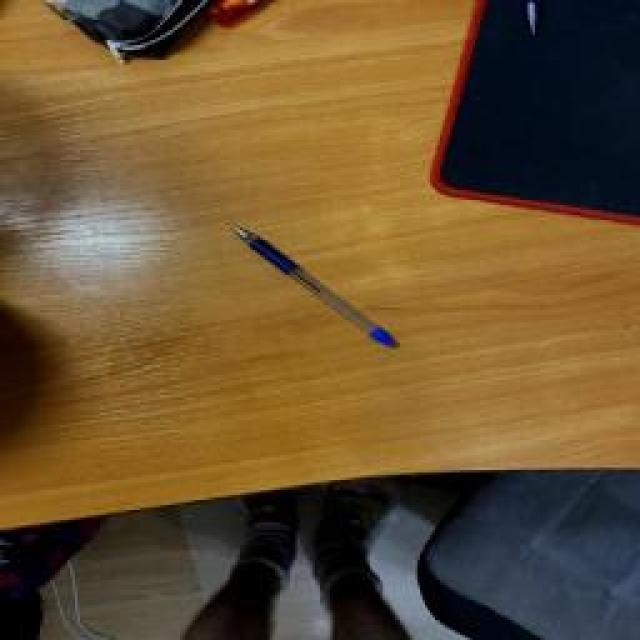Pen - Non Recyclable: (228, 220, 398, 350)
